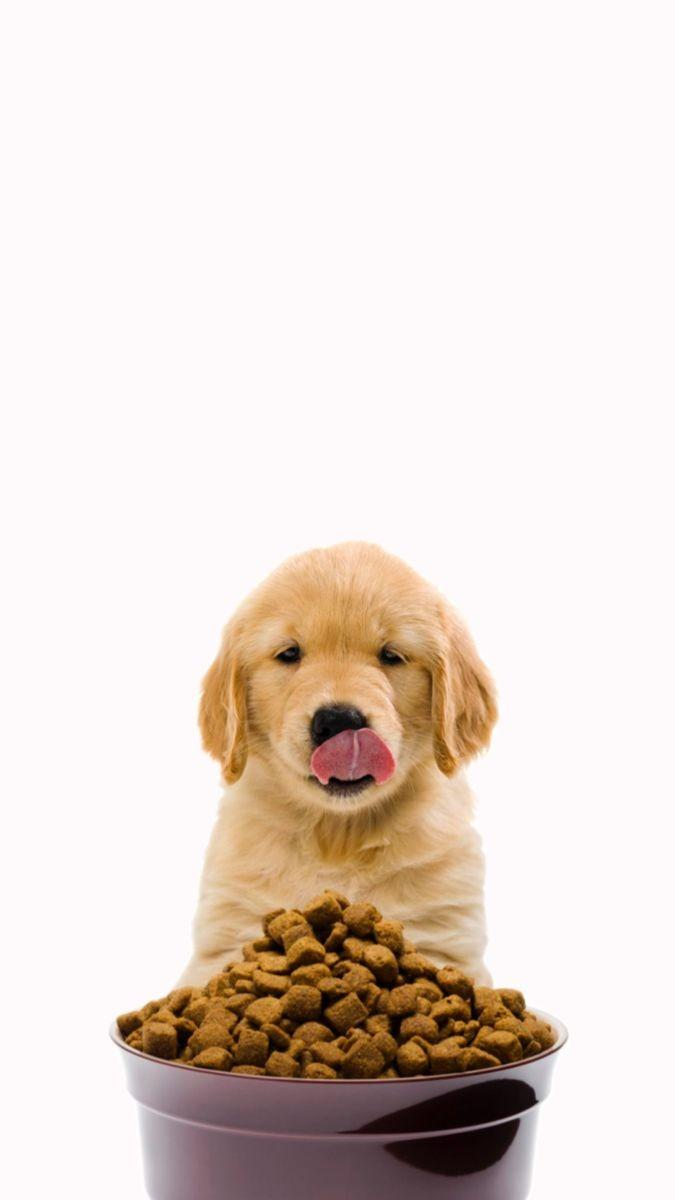puppy-dog: (173, 538, 500, 999)
